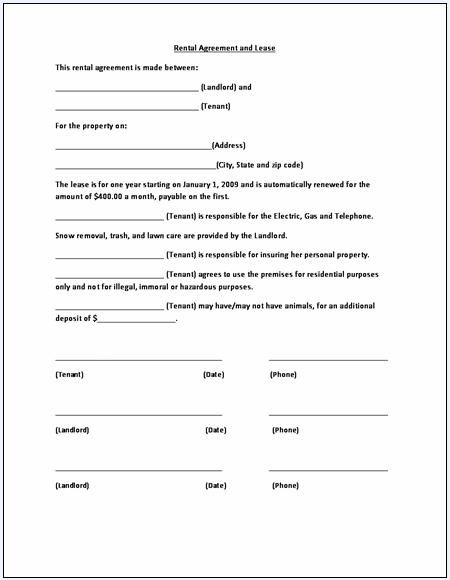textline: (52, 340, 224, 364), (54, 454, 224, 476), (53, 397, 224, 418), (268, 339, 388, 364), (266, 396, 390, 419), (51, 155, 217, 172), (266, 453, 390, 475), (53, 76, 200, 93), (53, 97, 200, 113), (52, 137, 211, 151), (51, 243, 165, 262), (50, 295, 165, 313), (52, 206, 164, 222), (51, 267, 164, 282), (99, 311, 175, 326)
